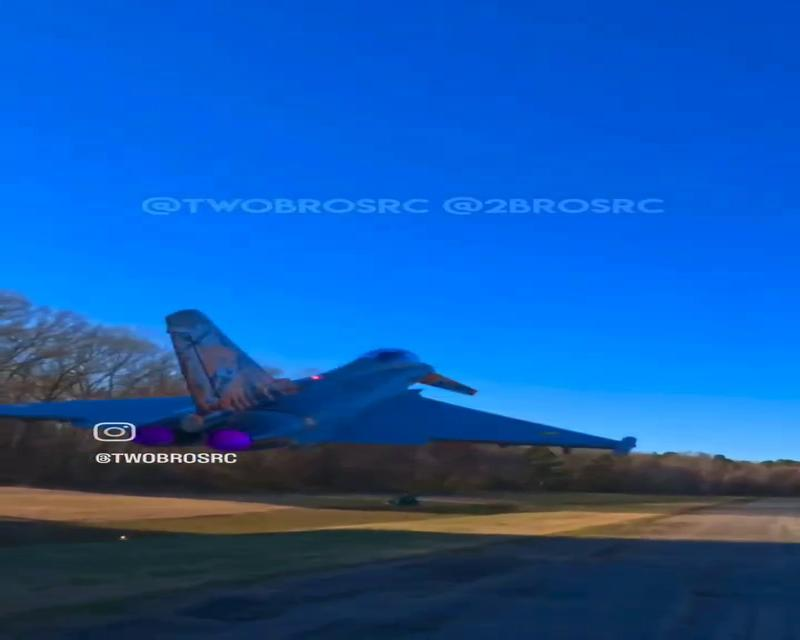UAV: (2, 308, 637, 458)
